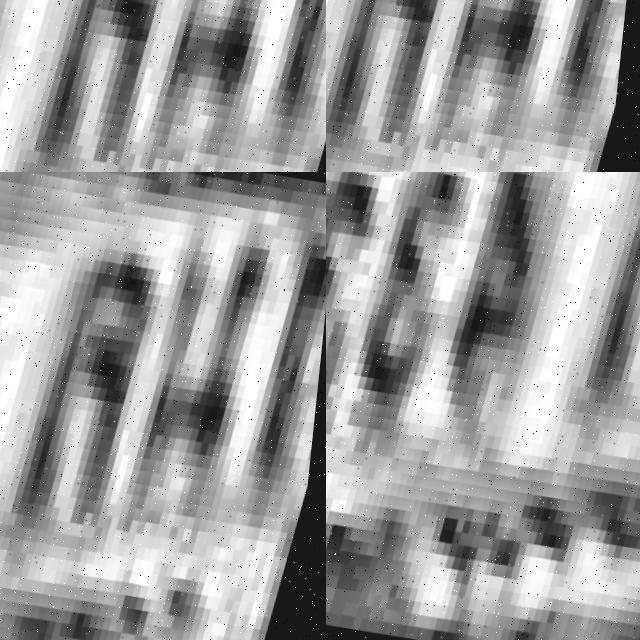license-plate: (326, 172, 640, 640), (0, 0, 326, 172), (326, 0, 640, 172)
